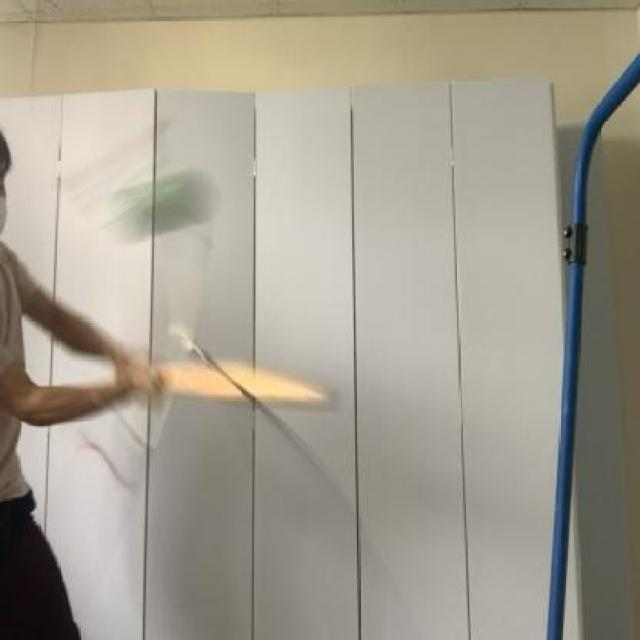baseball: (99, 156, 224, 250)
